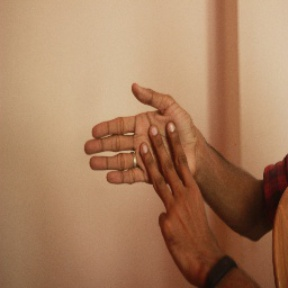M: (82, 80, 201, 211)
